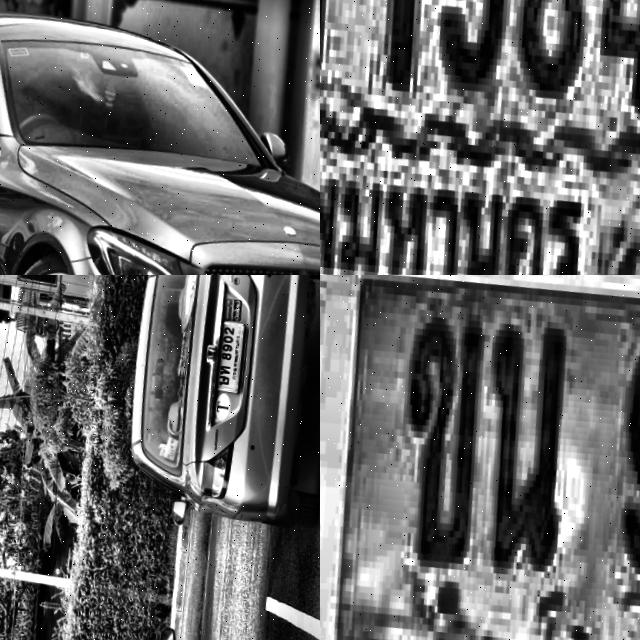license-plate: (320, 275, 640, 640), (320, 0, 640, 275), (294, 549, 320, 593)
